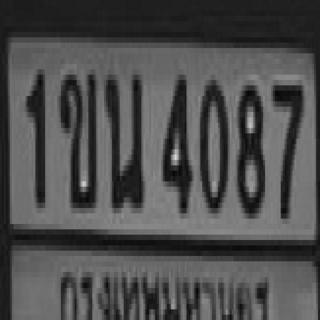A02: (59, 69, 94, 203)
A25: (104, 67, 141, 205)
N00: (198, 75, 226, 208)
N01: (25, 64, 43, 203)
N04: (161, 69, 188, 208)
N07: (271, 80, 300, 213)
N08: (236, 80, 263, 213)
